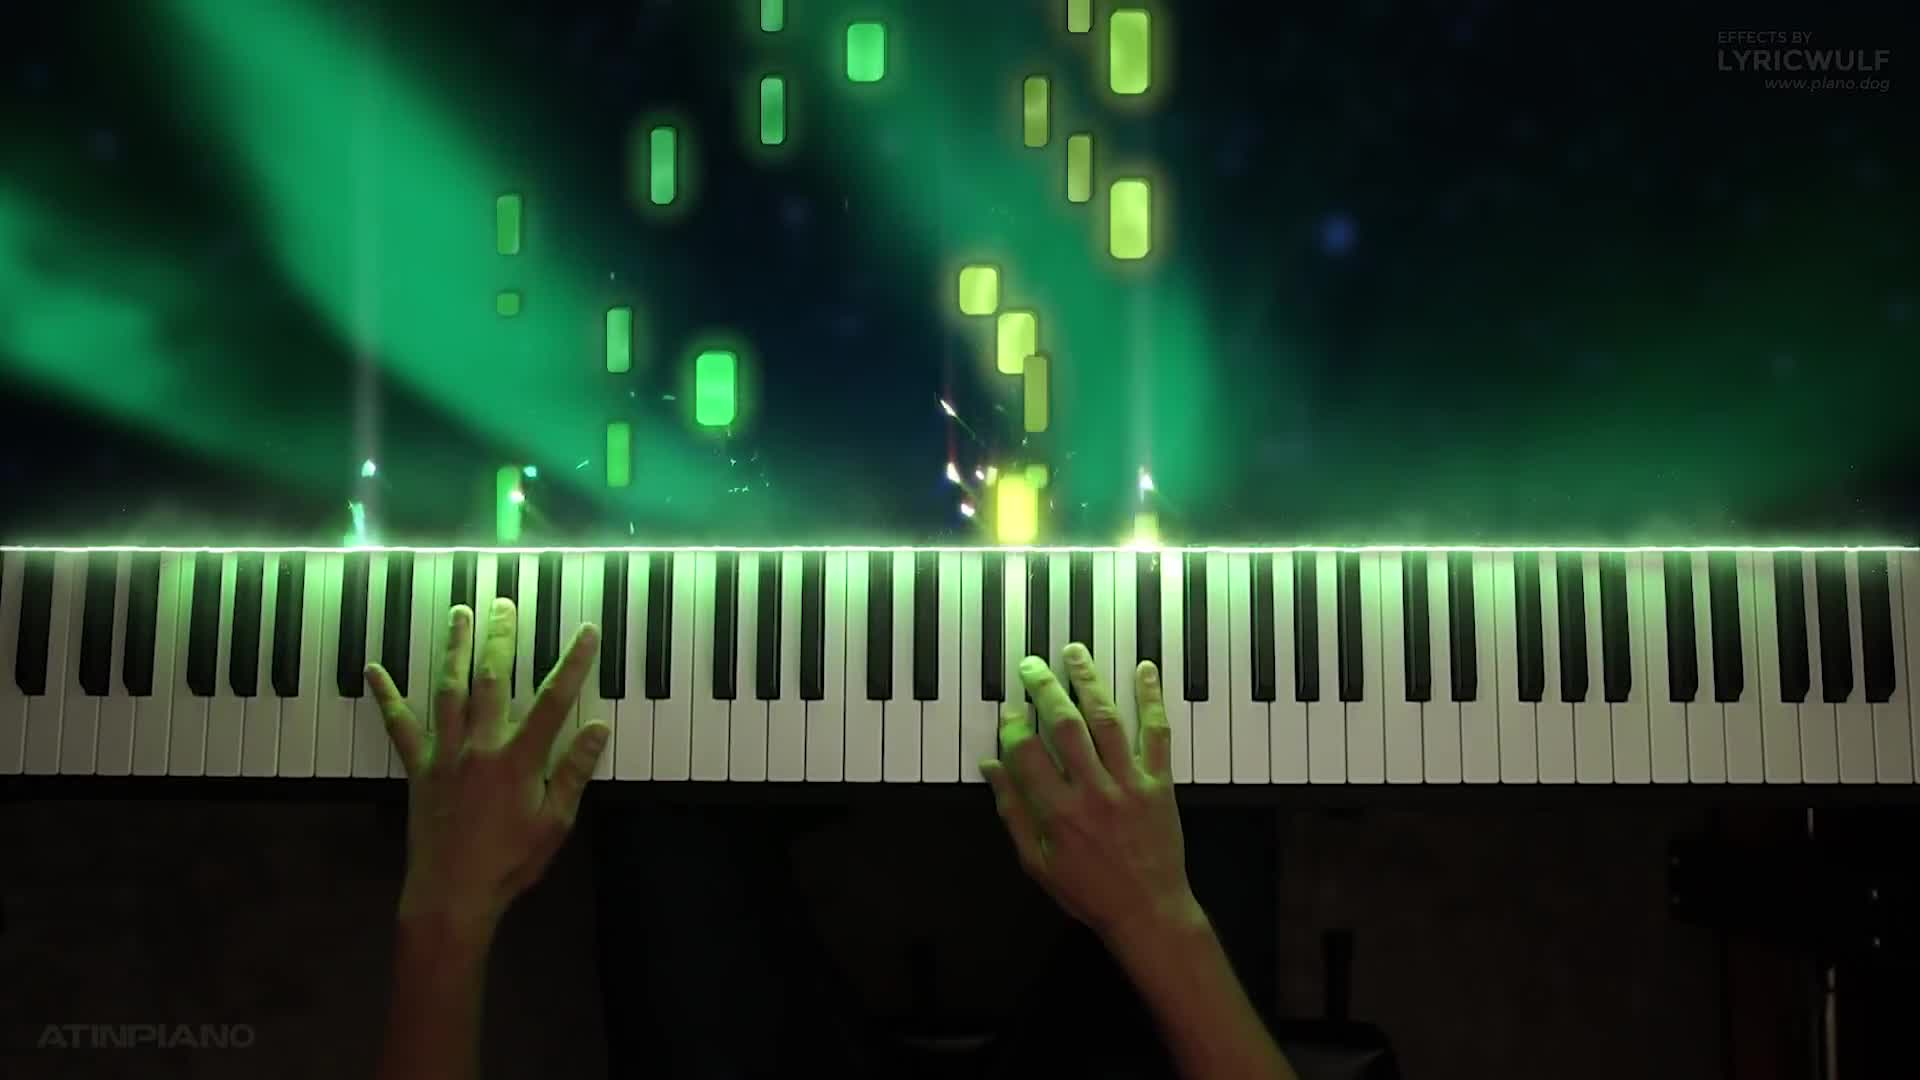left: (357, 597, 611, 899)
right: (982, 640, 1178, 923)
